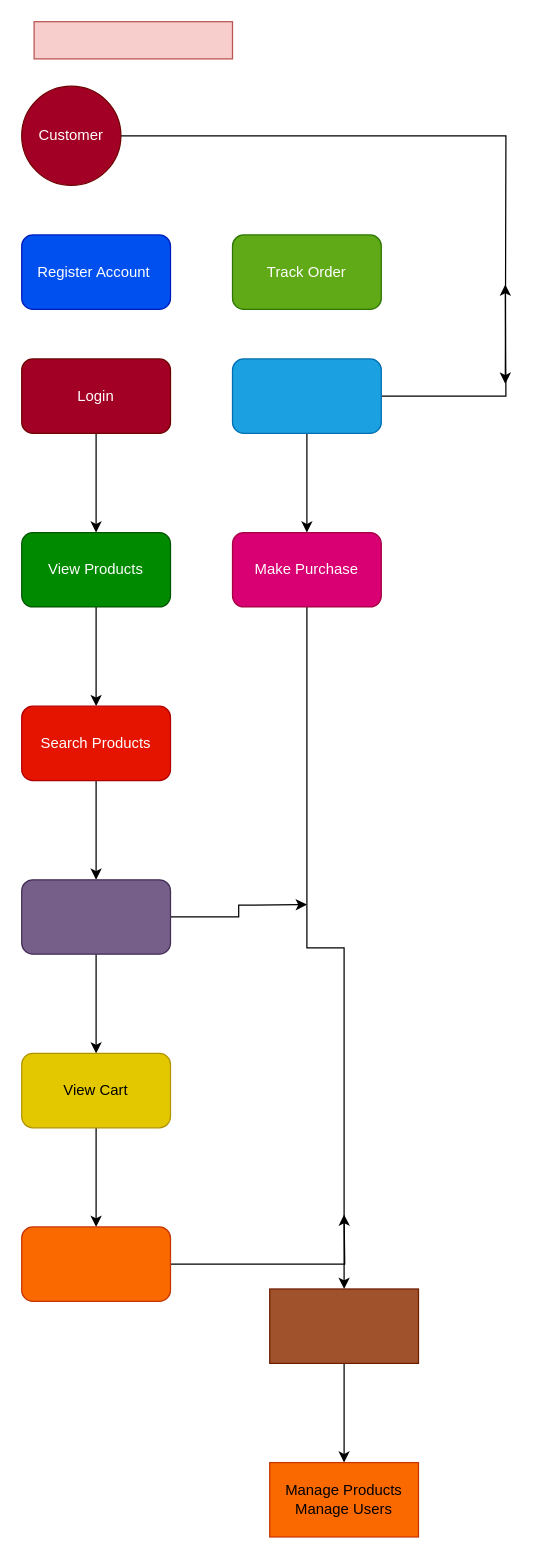
Some shapes in this 538 by 1559 pixel diagram are drawn without their labels. Here are the shapes that lost their labels. From the top down, the centre of each, then its label:
(x=132, y=39): Online Shopping System
(x=306, y=395): Checkout
(x=95, y=916): Add to Cart
(x=95, y=1263): Payemnent Gateway (Process Payment
(x=343, y=1325): [Admin]
